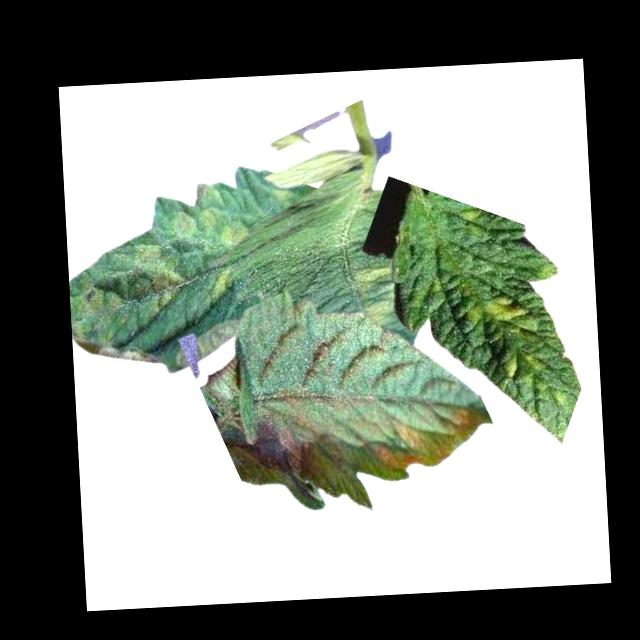Leaf_Mold: (72, 241, 187, 345), (365, 400, 484, 477), (167, 181, 248, 252), (344, 258, 397, 329), (466, 289, 537, 335), (501, 344, 548, 385), (207, 265, 238, 306)
